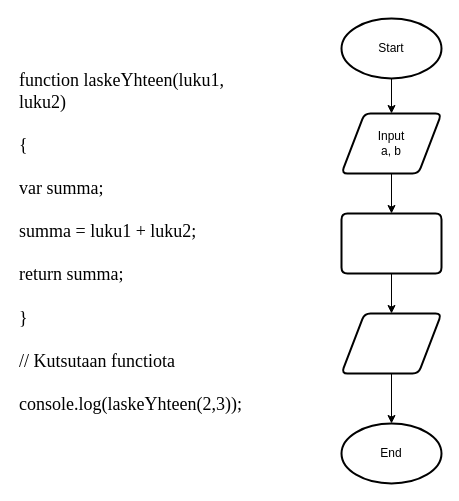
Image size: 459x501. Some labels were removed from this diagram. Here are the shapes that lost their labels. From the top down, the centre of each, then its label:
At (x=391, y=243): "sum = a + b".
At (x=391, y=343): "Print sum".
